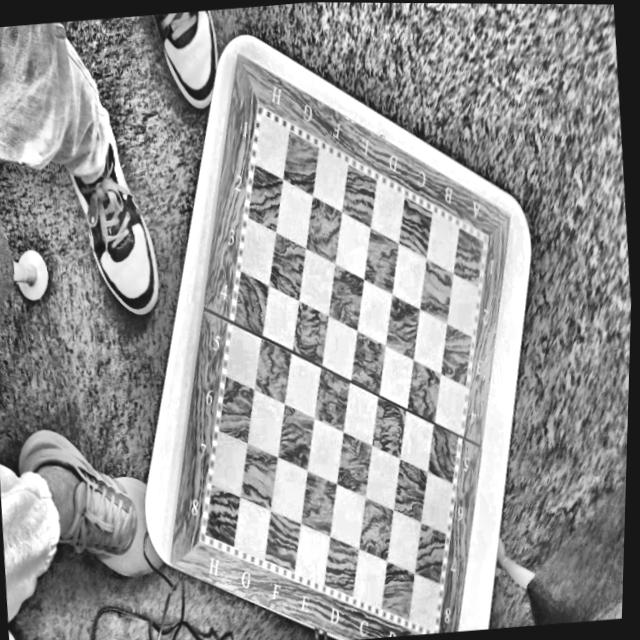chessboard: (197, 101, 489, 634)
p1: (477, 236, 487, 251)
p2: (430, 621, 438, 633)
p3: (201, 528, 211, 538)
p4: (257, 111, 265, 123)
